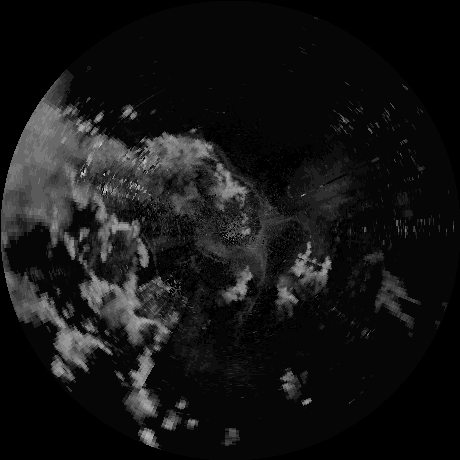frontgust: (228, 166, 266, 203), (246, 272, 265, 316)
